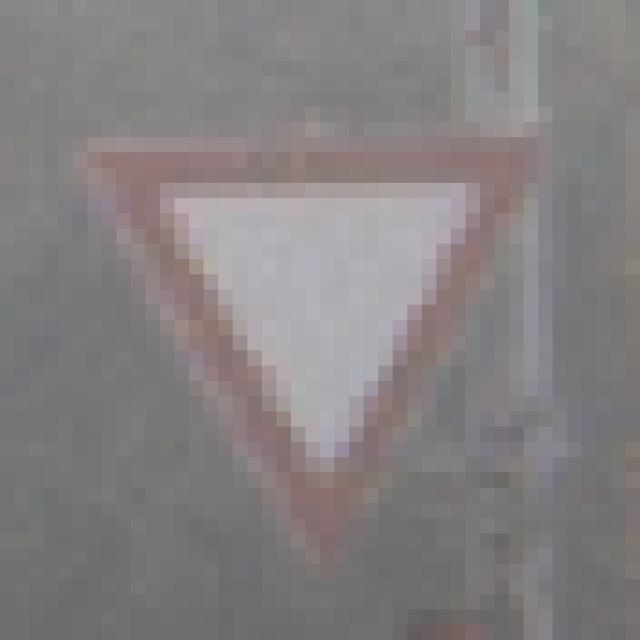Give Way: (74, 92, 568, 565)
